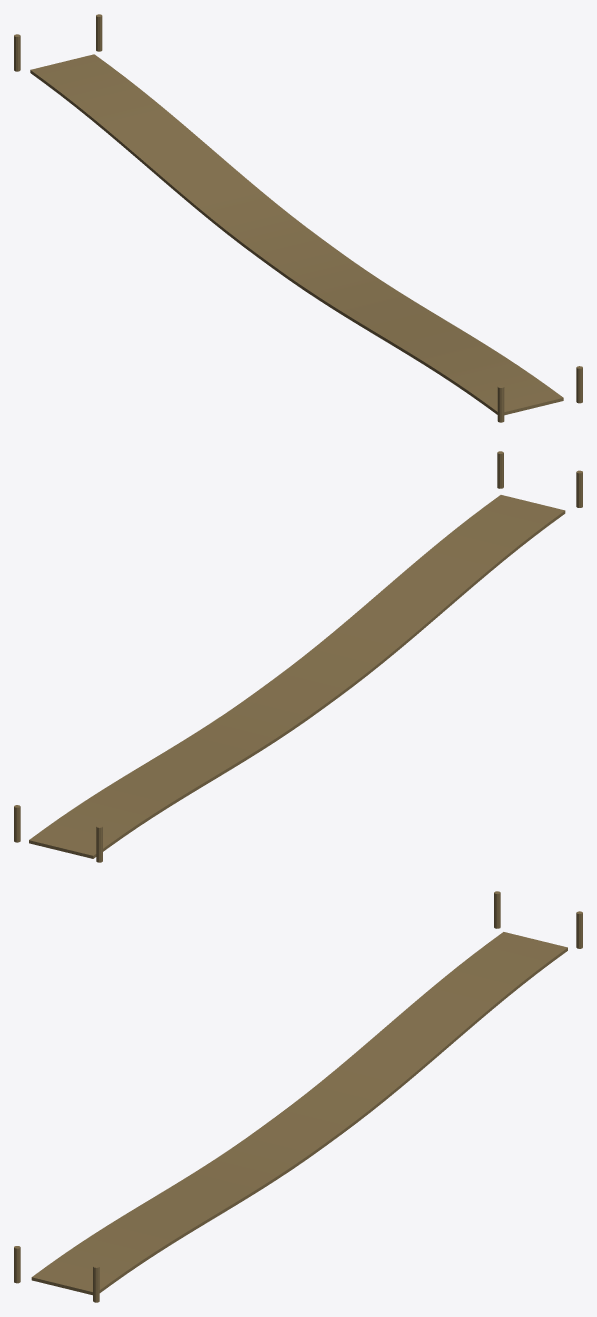
The model's file is bridge.fbx.
The picture shows the model from 3 angles, top to bottom: view 1: azimuth 30°, elevation 25°; view 2: azimuth 150°, elevation 25°; view 3: azimuth 330°, elevation 25°; orthographic projection.
Parts seen in each view (by area): view 1: bridge; view 2: bridge; view 3: bridge.
Part boxes in pixels (left/top/right/bottom): bridge: left=30, top=54, right=563, bottom=415; bridge: left=29, top=495, right=565, bottom=858; bridge: left=31, top=932, right=567, bottom=1295.
Bounding box in the file's own units: 4.67 × 2.81 × 44.62.
